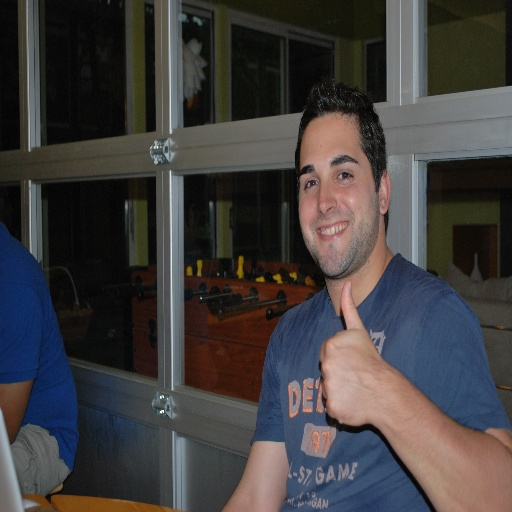hand: (317, 278, 380, 428)
